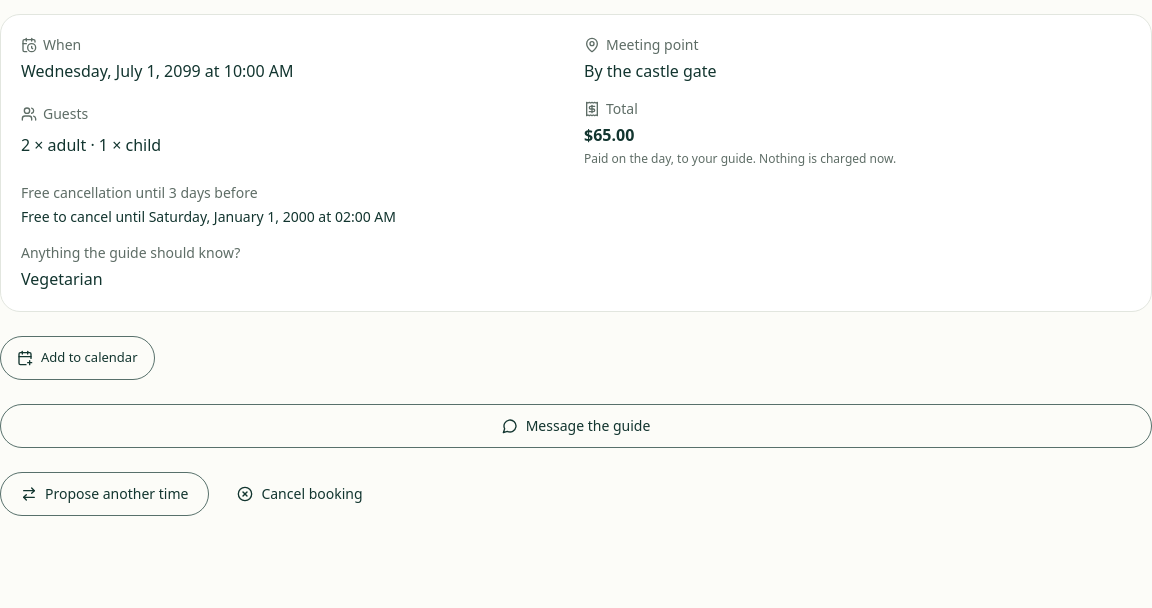
Test: booking a tour › warns a traveller before a late cancellation
Click the button "Cancel booking".
click(300, 494)  # box [217,472,382,516]
(page scrolled)
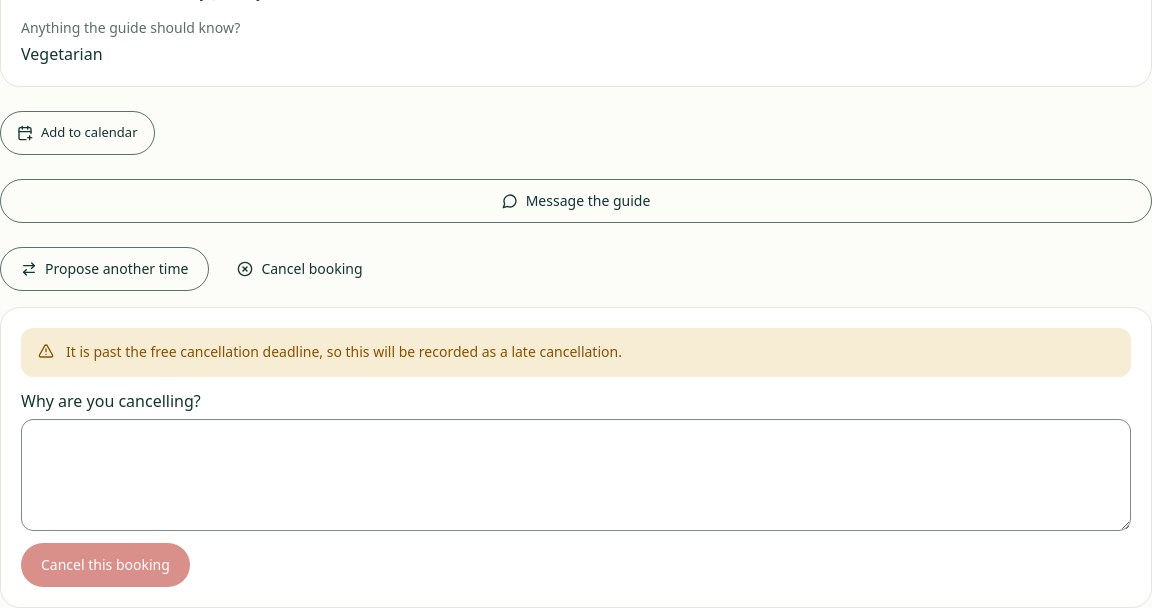
expect the text "recorded as a late cancellation" is shown: met, box [66,342,622,361]
Type "Flight moved" into the text box labelled "Why are you cancelling?".
click(576, 475); type("Flight moved")  # box [21,419,1131,531]
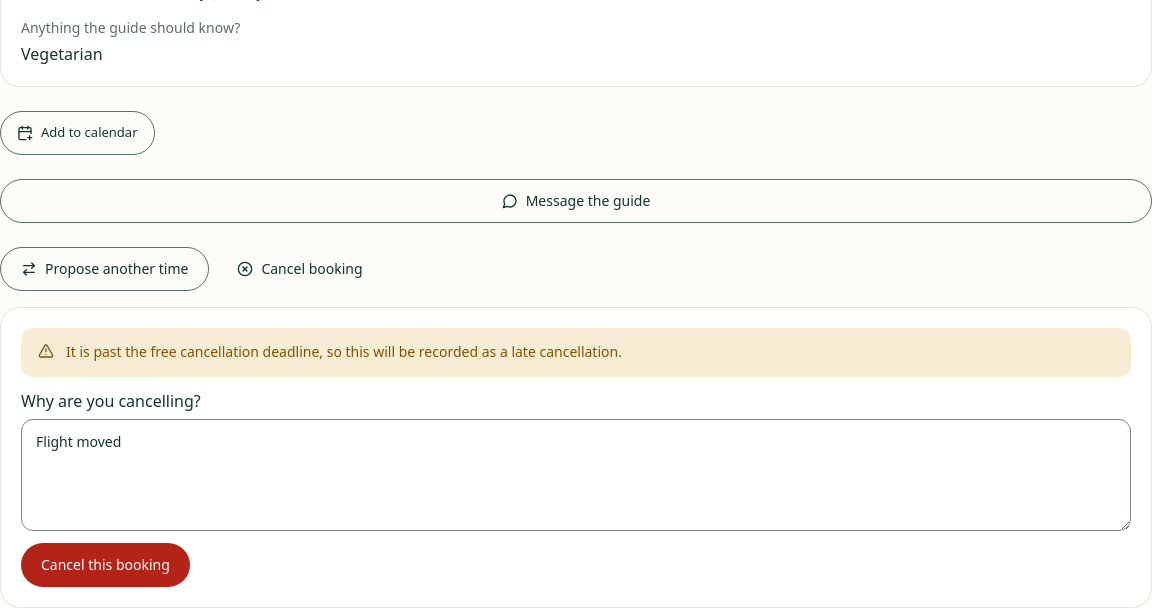
Click the button "Cancel this booking".
click(105, 565)  # box [21,543,190,587]
(page scrolled)
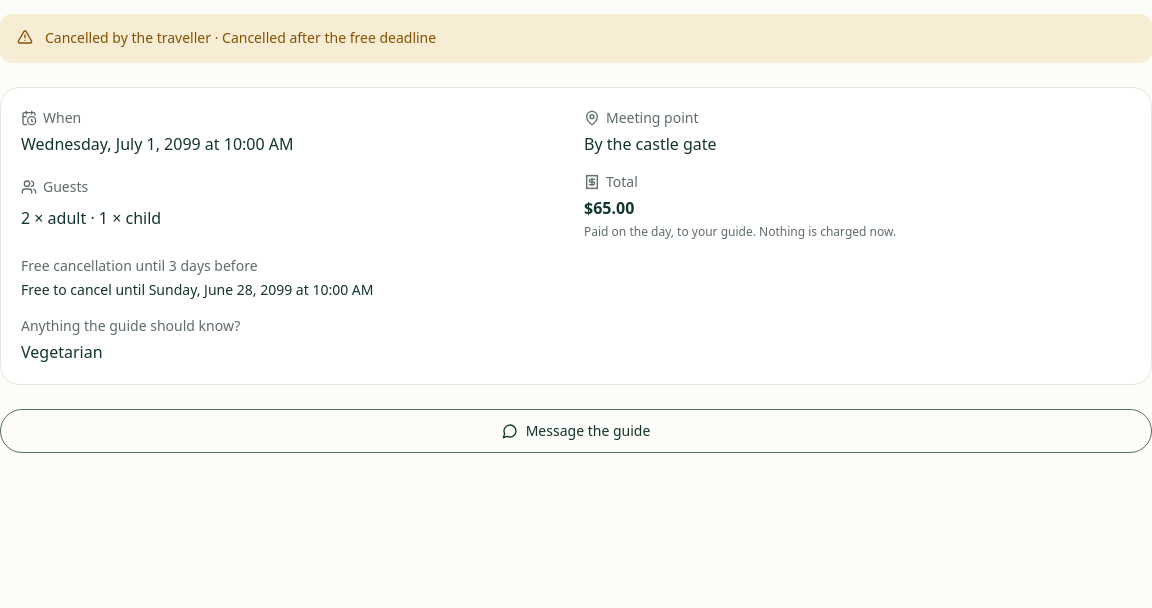
expect the text "Cancelled after the free deadline" is shown: met, box [211,28,436,47]
